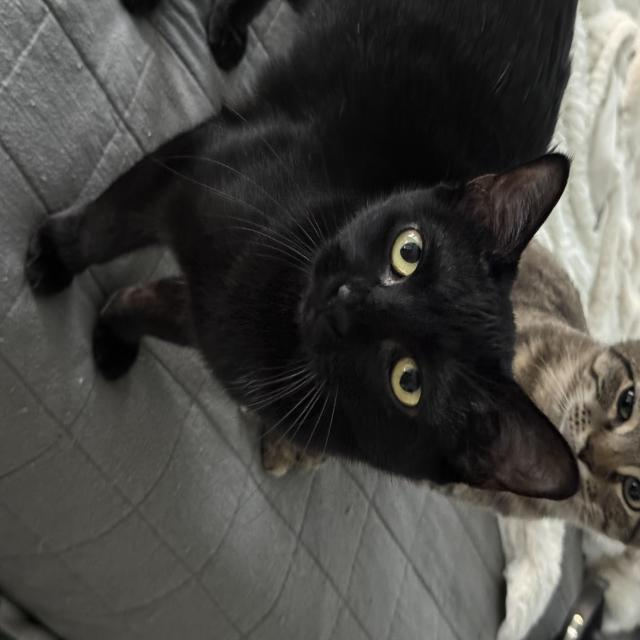bombay_cat: (278, 139, 582, 508)
